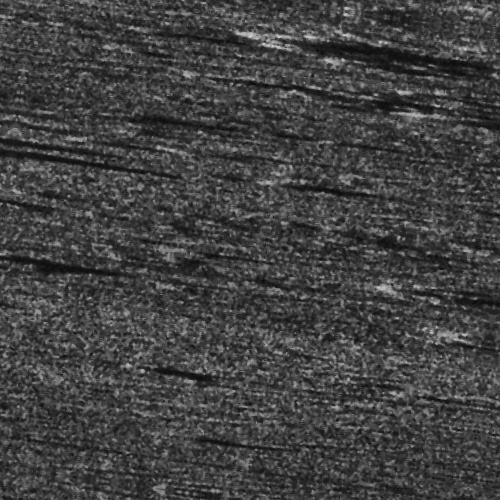object: (208, 21, 281, 46), (355, 85, 448, 94), (294, 43, 357, 50), (266, 173, 319, 178), (163, 439, 216, 444), (457, 300, 498, 303), (137, 375, 168, 378)
shadow: (245, 21, 450, 46), (0, 179, 165, 188), (402, 85, 500, 94), (326, 43, 432, 50), (0, 168, 106, 175), (293, 173, 392, 178), (190, 439, 277, 444), (0, 285, 64, 290), (153, 375, 240, 378), (0, 227, 29, 234), (222, 493, 283, 496), (190, 255, 282, 256), (478, 300, 500, 303), (483, 215, 500, 216)
